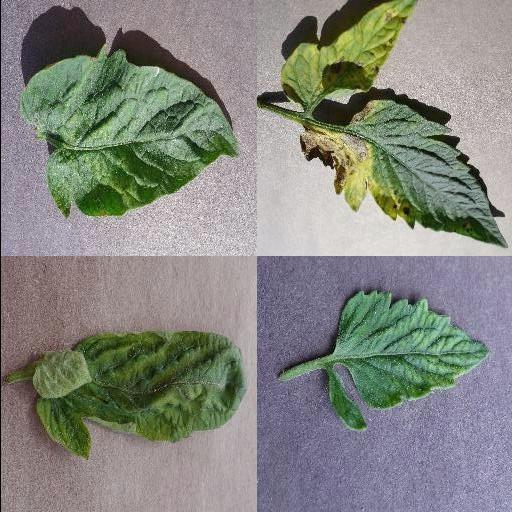Early Blight: (297, 100, 507, 248)
Mosaic Virus: (325, 291, 491, 431)
Spider Mites: (18, 54, 240, 219)
Yellow Leaf Curl Virus: (32, 330, 248, 460)
